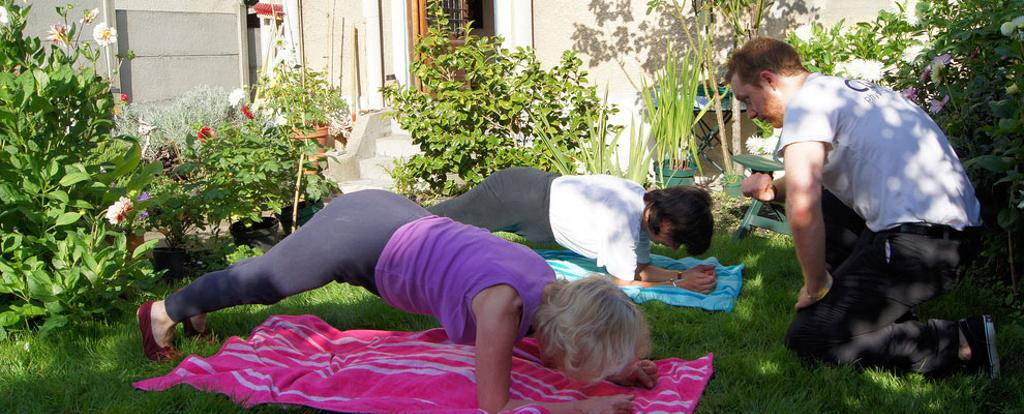face: (729, 71, 785, 127)
